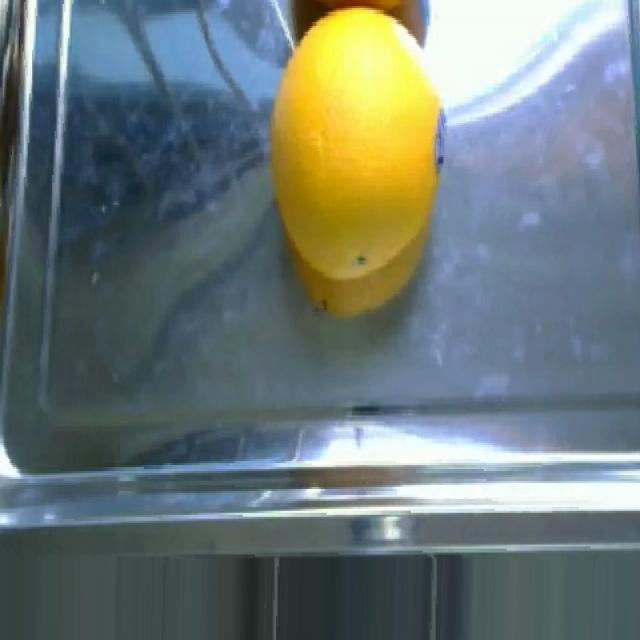Fruit: (259, 0, 448, 324)
